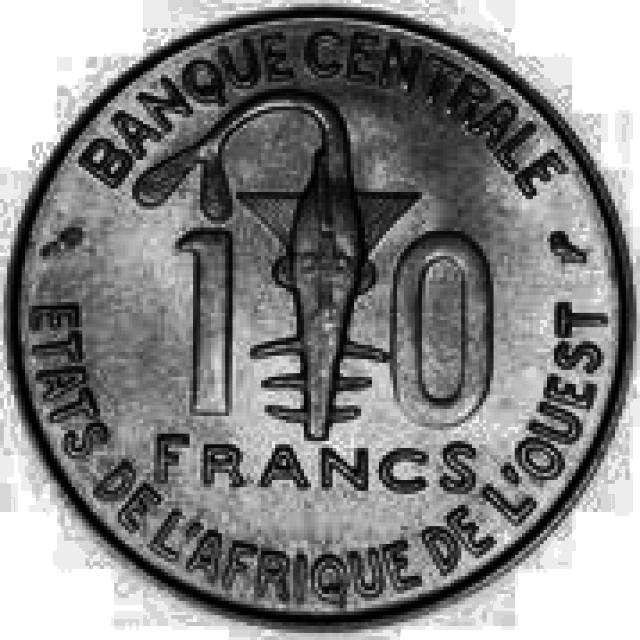niaari derem: (11, 10, 630, 618)
